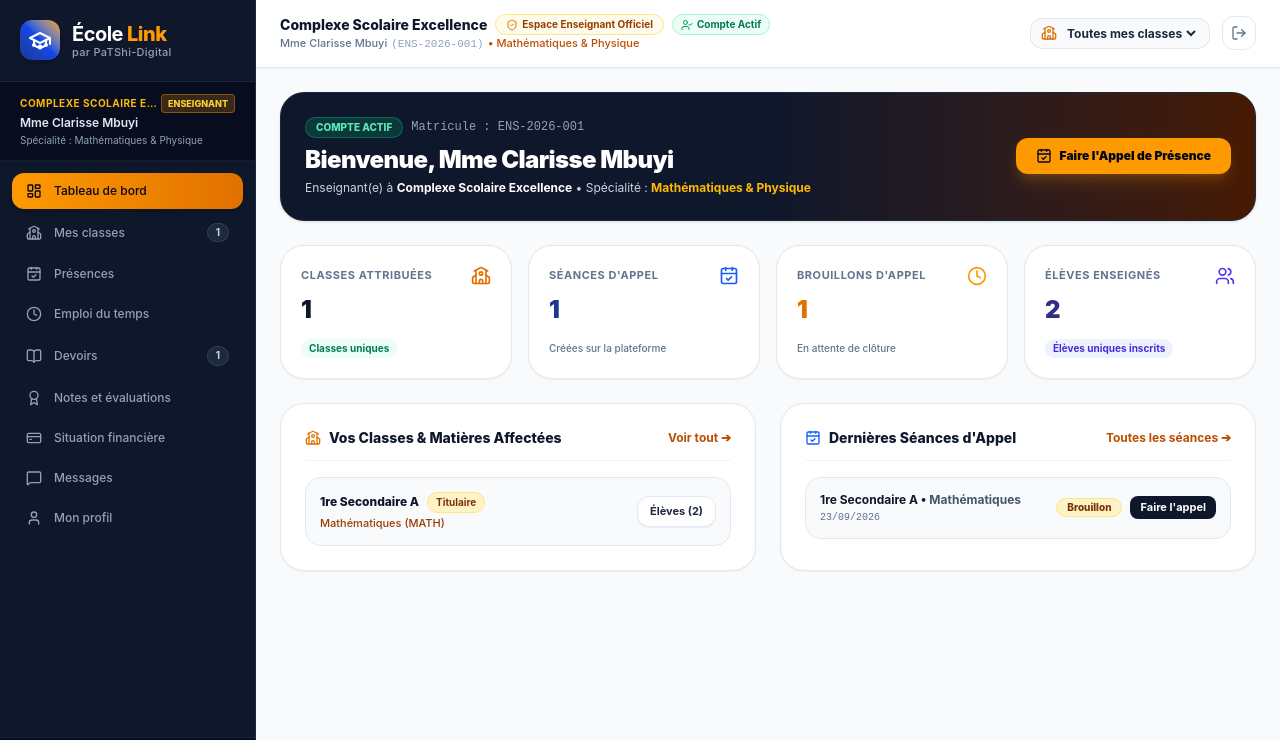
Test: RealTeacherPortal - Lot 2G Refonte Portail Enseignant Réel › 13. permet la navigation fluide vers chaque module existant
This screenshot has width=1280, height=740.
Click the button "Devoirs 1" at (128,356), box [12,336,243,376]
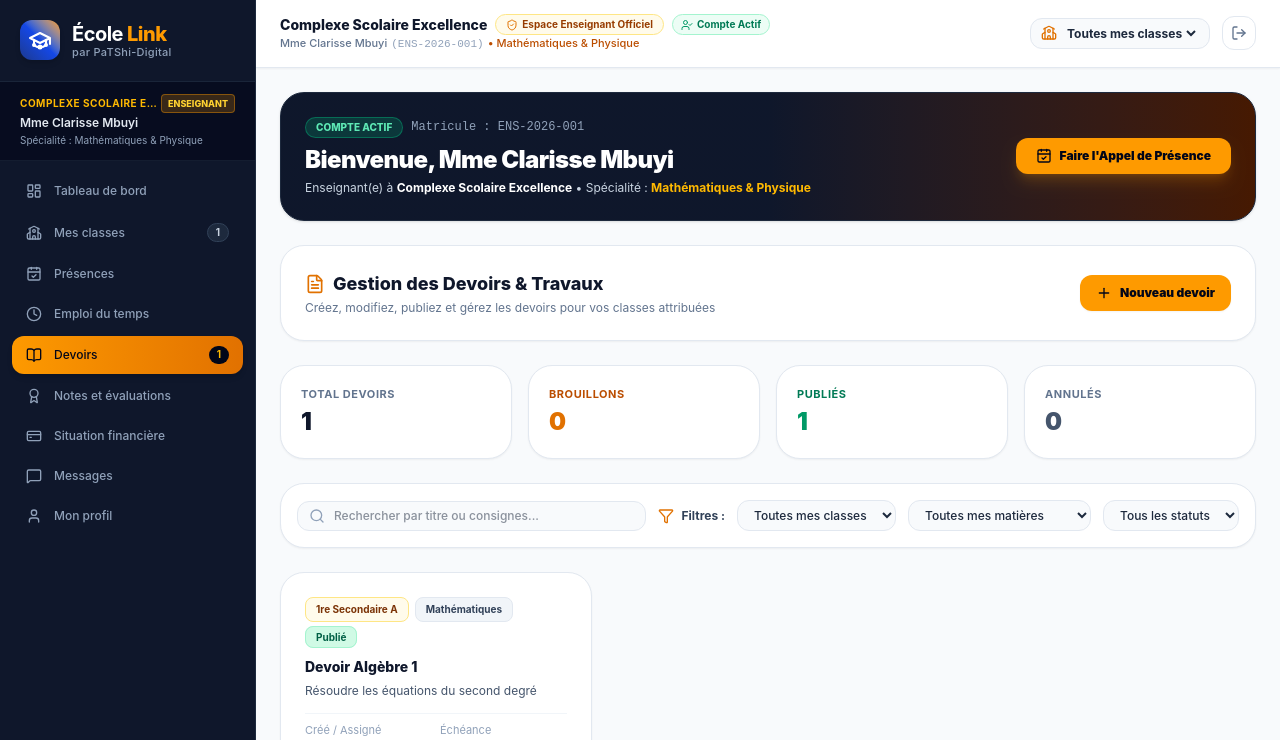
Expected: the text "Gestion des Devoirs & Travaux" is shown, [333,270,604,298]
